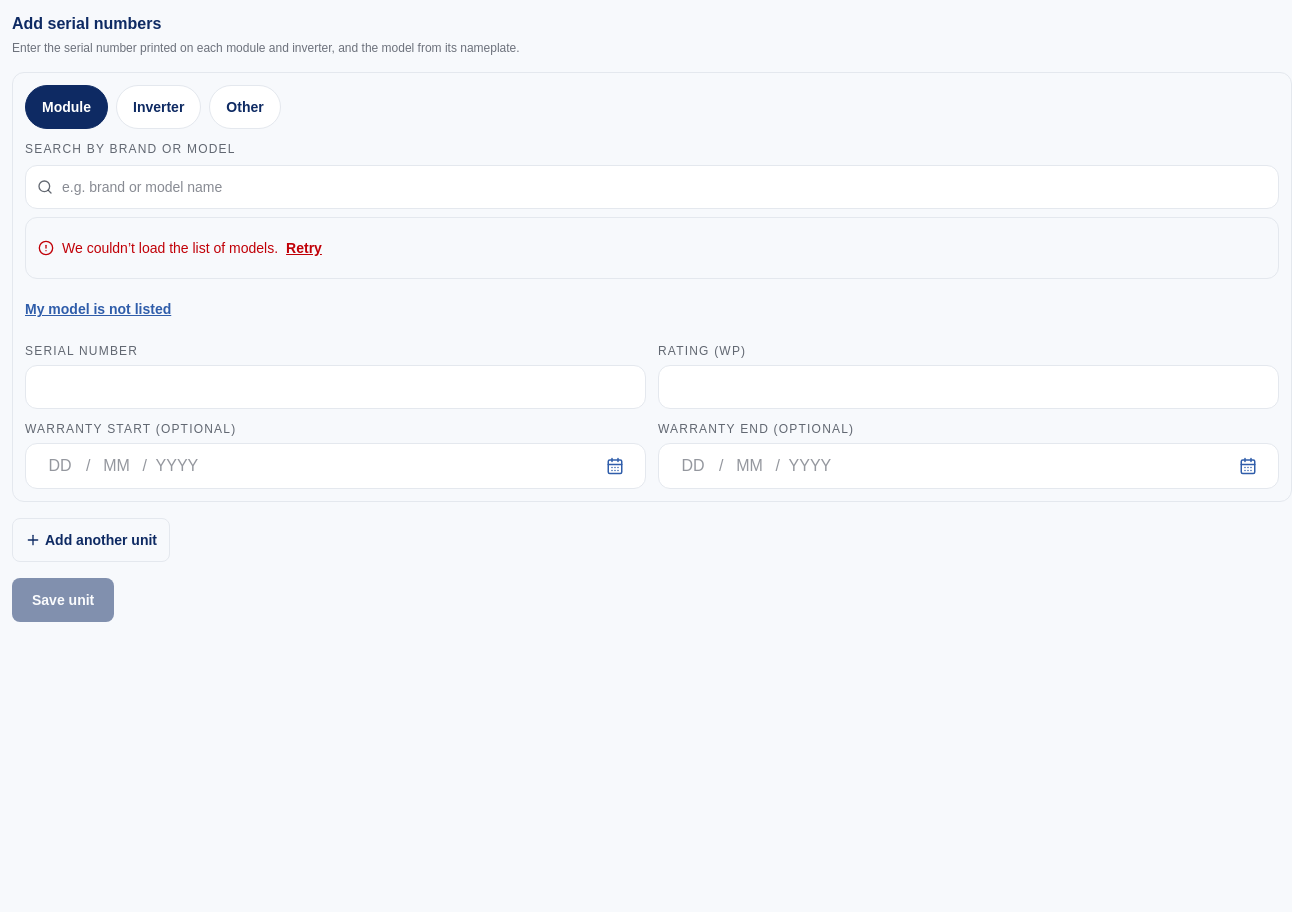
Scenario: RegisterEntry — "My model is not listed" › is offered even while the catalogue is in error, and explains in one calm sentence that Grid Nova will match it
Click the button "My model is not listed" at (98, 309), box x1=25 y1=287 x2=171 y2=331
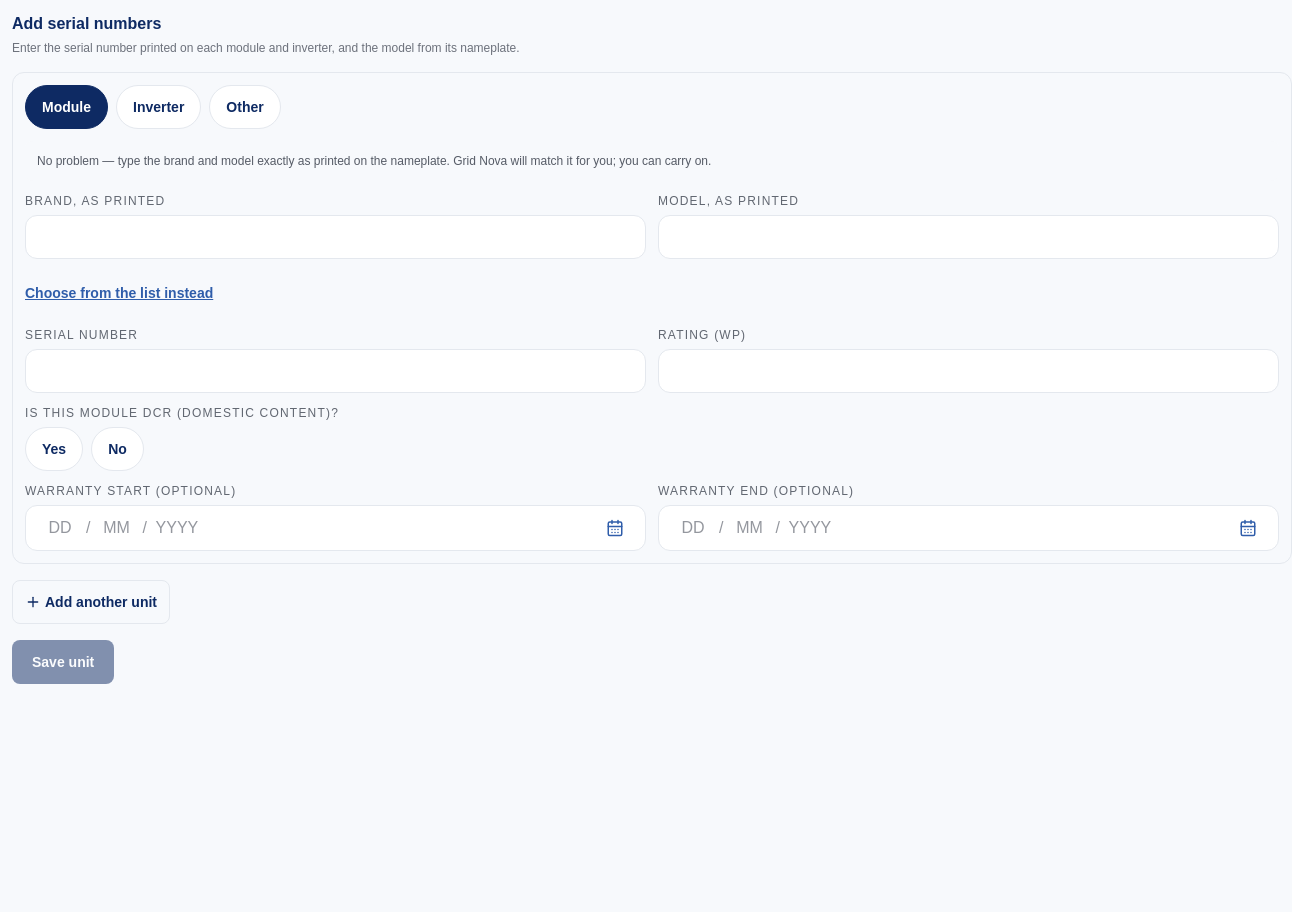
Result: the element with test id "unlisted-fields" shows "No problem — type the brand and model exactly as printed on the nameplate. Grid Nova will match it for you; you can carry on." at x1=37 y1=154 x2=711 y2=168
Result: the field labelled "Brand, as printed" is shown at x1=25 y1=215 x2=646 y2=259
Result: the field labelled "Model, as printed" is shown at x1=658 y1=215 x2=1279 y2=259
